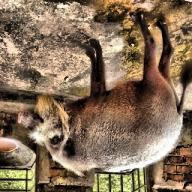boar: (17, 13, 192, 178)
